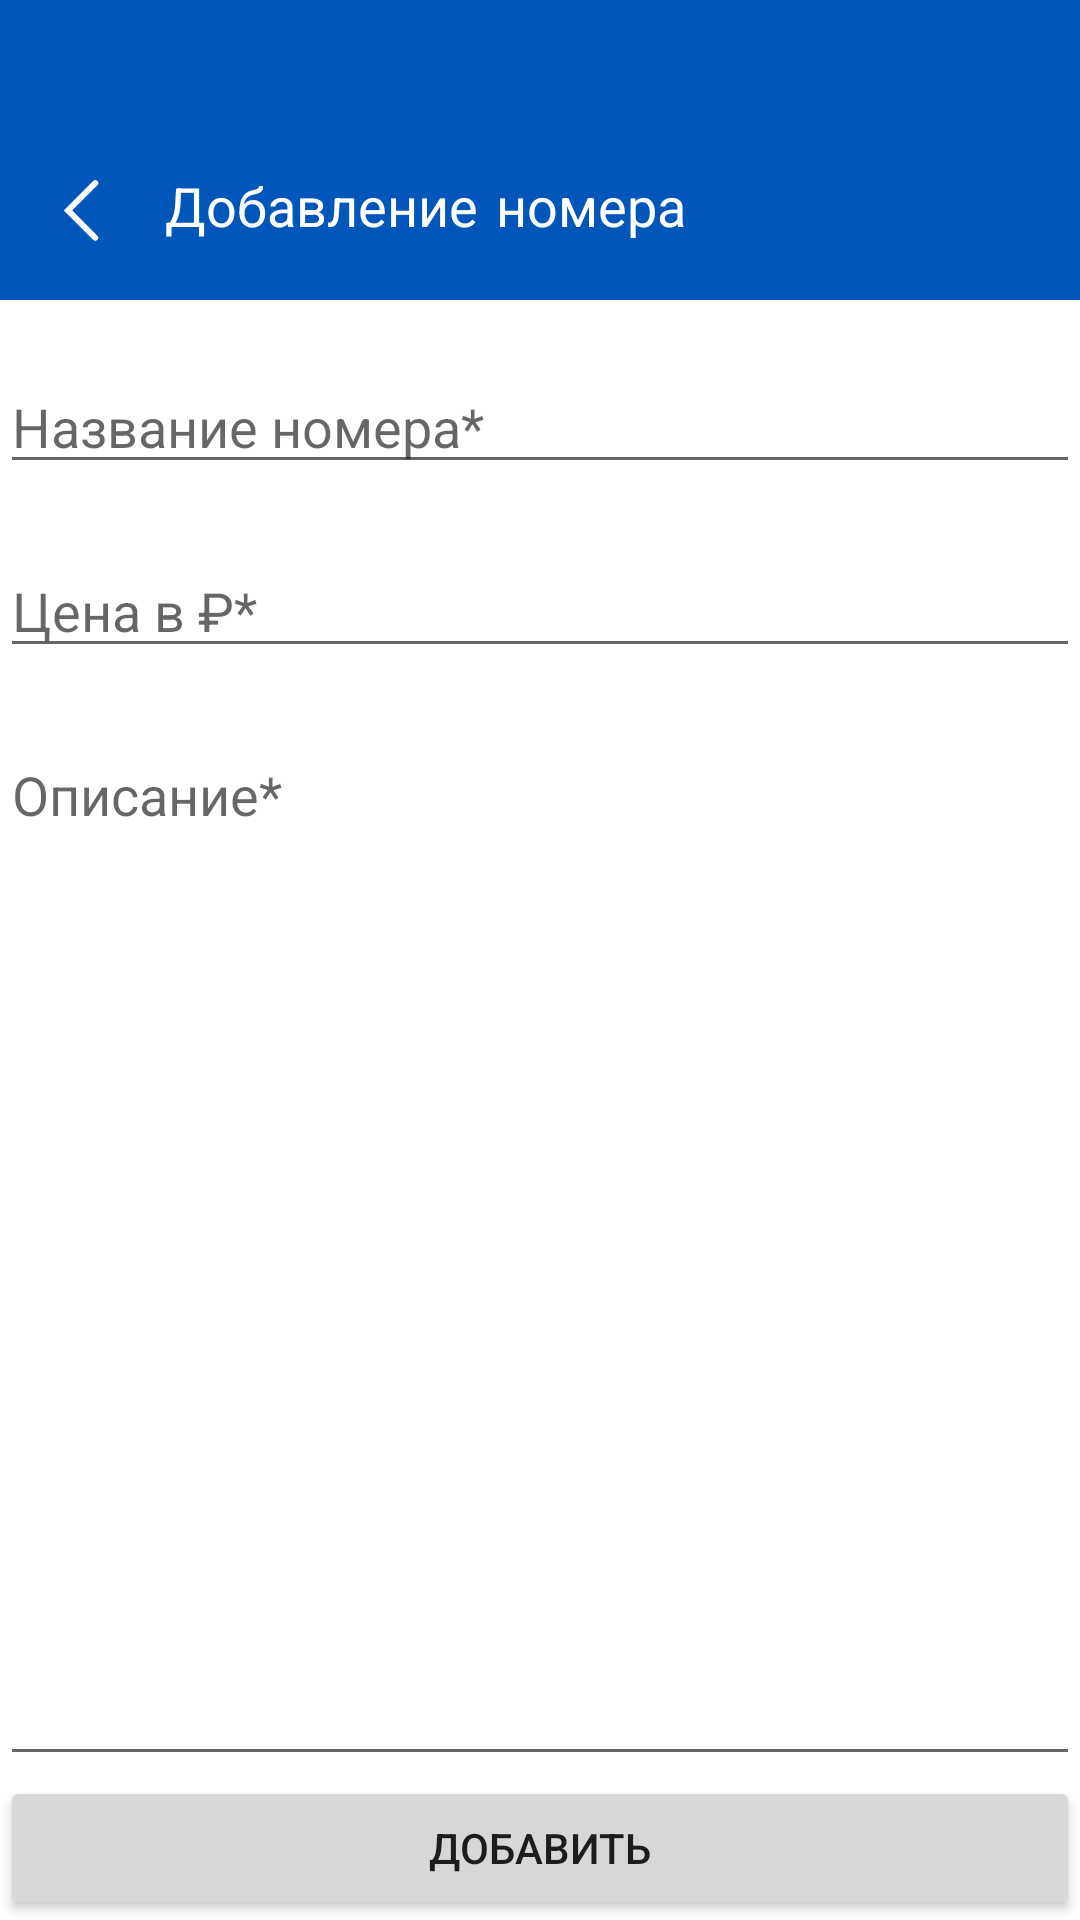

Icon bounding boxes for this 1080px x 1920px phone screenshot, format (x1, y1, x2, y2):
sign back: (64, 180, 99, 241)
